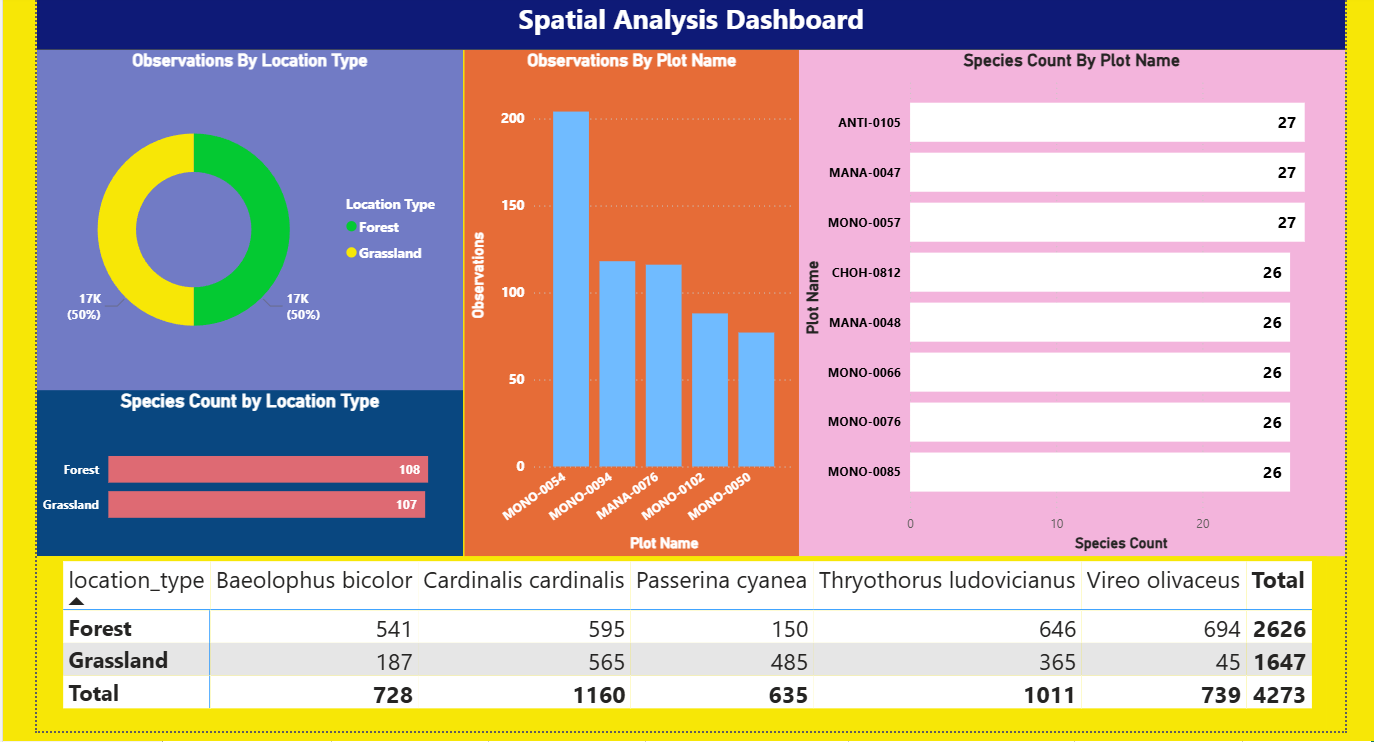

The dashboard page shown, as its layout file describes it:
{"tool":"powerbi","page":{"name":"Spatial Analysis","canvas":[1280,720],"ordinal":1},"visuals":[{"type":"clusteredBarChart","title":"Species Count by Location Type","fields":{"Category":["species_by_location.location_type"],"Y":["Sum(species_by_location.species_count)"]},"box":[0,386.4,417,162.6],"z":0},{"type":"donutChart","title":"Observations By Location Type","fields":{"Y":["Sum(observation_by_location.total_observations)"],"Category":["top_species_by_location.location_type"]},"box":[0,53.8,417,332.6],"z":1000},{"type":"barChart","title":"Species Count By Plot Name","fields":{"Category":["biodiversity_hotspots.plot_name"],"Y":["Sum(biodiversity_hotspots.species_count)"]},"box":[745.2,53.2,535,495.5],"z":2000},{"type":"clusteredColumnChart","title":"Observations By Plot Name","fields":{"Category":["top_plots_by_observations.plot_name"],"Y":["Sum(top_plots_by_observations.total_observations)"]},"box":[417.7,53.2,327.6,495.5],"z":3000},{"type":"pivotTable","fields":{"Rows":["top_species_by_location.location_type"],"Columns":["top_species_by_location.scientific_name"],"Values":["Sum(top_species_by_location.observations)"]},"box":[20.5,548.7,1240.7,172],"z":4000},{"type":"textbox","box":[0,0,1280.3,53.8],"z":5001}]}

Visuals, with their boxes on the page's 1280x720 design canvas (x1, y1, x2, y2). These are canvas units, not pixel positions in the 1374x742 screenshot, which may show the page scaled, cropped or inside an application window:
"Species Count by Location Type" clusteredBarChart: 0,386,417,549
"Observations By Location Type" donutChart: 0,54,417,386
"Species Count By Plot Name" barChart: 745,53,1280,549
"Observations By Plot Name" clusteredColumnChart: 418,53,745,549
pivotTable - top_species_by_location.location_type x top_species_by_location.scientific_name: 20,549,1261,721
textbox: 0,0,1280,54
